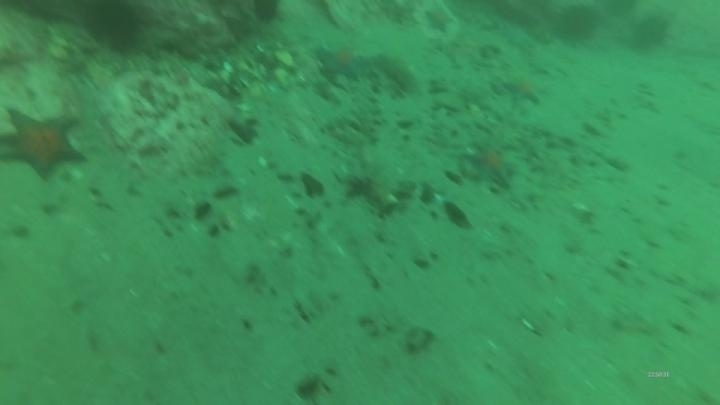echinus: (80, 1, 146, 55), (552, 3, 603, 46), (626, 12, 674, 54), (249, 0, 284, 26)
holothurian: (346, 76, 387, 147), (363, 50, 418, 95)
starfish: (0, 105, 88, 184), (464, 140, 518, 190), (313, 39, 370, 83), (500, 72, 549, 108), (421, 3, 458, 36)
